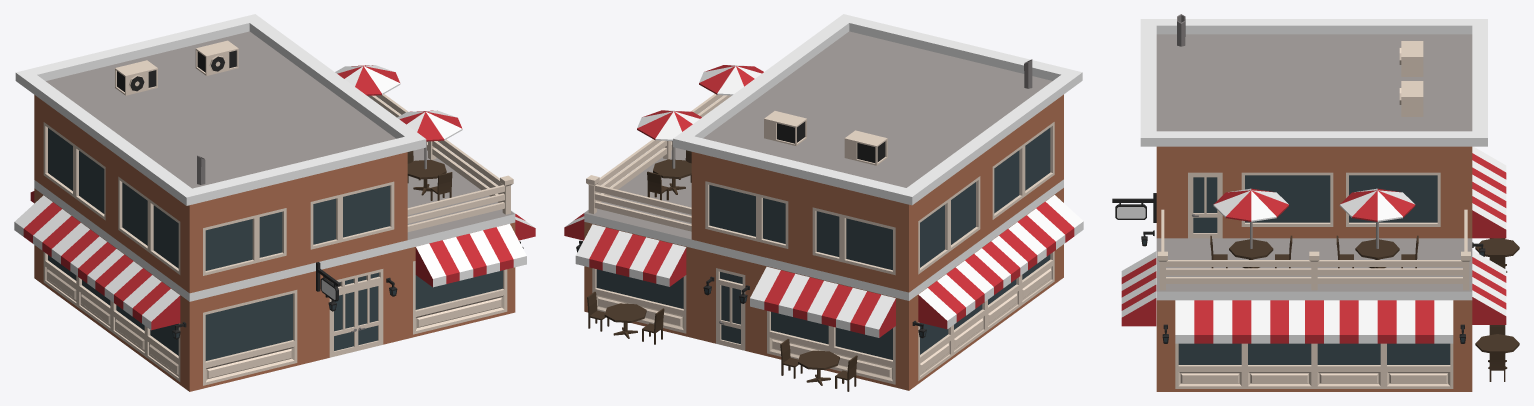
The model's file is buildings_building-restaurant.fbx.
3 views of the same model, side by side, from view 1: azimuth 30°, elevation 25°; view 2: azimuth 150°, elevation 25°; view 3: azimuth 270°, elevation 25° (orthographic).
Visible parts, largest first — view 1: buildings_building_restaurant; view 2: buildings_building_restaurant; view 3: buildings_building_restaurant.
Part boxes in pixels (x1,y1,x2,y2): buildings_building_restaurant: [14, 14, 535, 391]; buildings_building_restaurant: [564, 14, 1083, 391]; buildings_building_restaurant: [1112, 14, 1519, 391].
Bounding box in the file's own units: 200 × 111 × 181.
